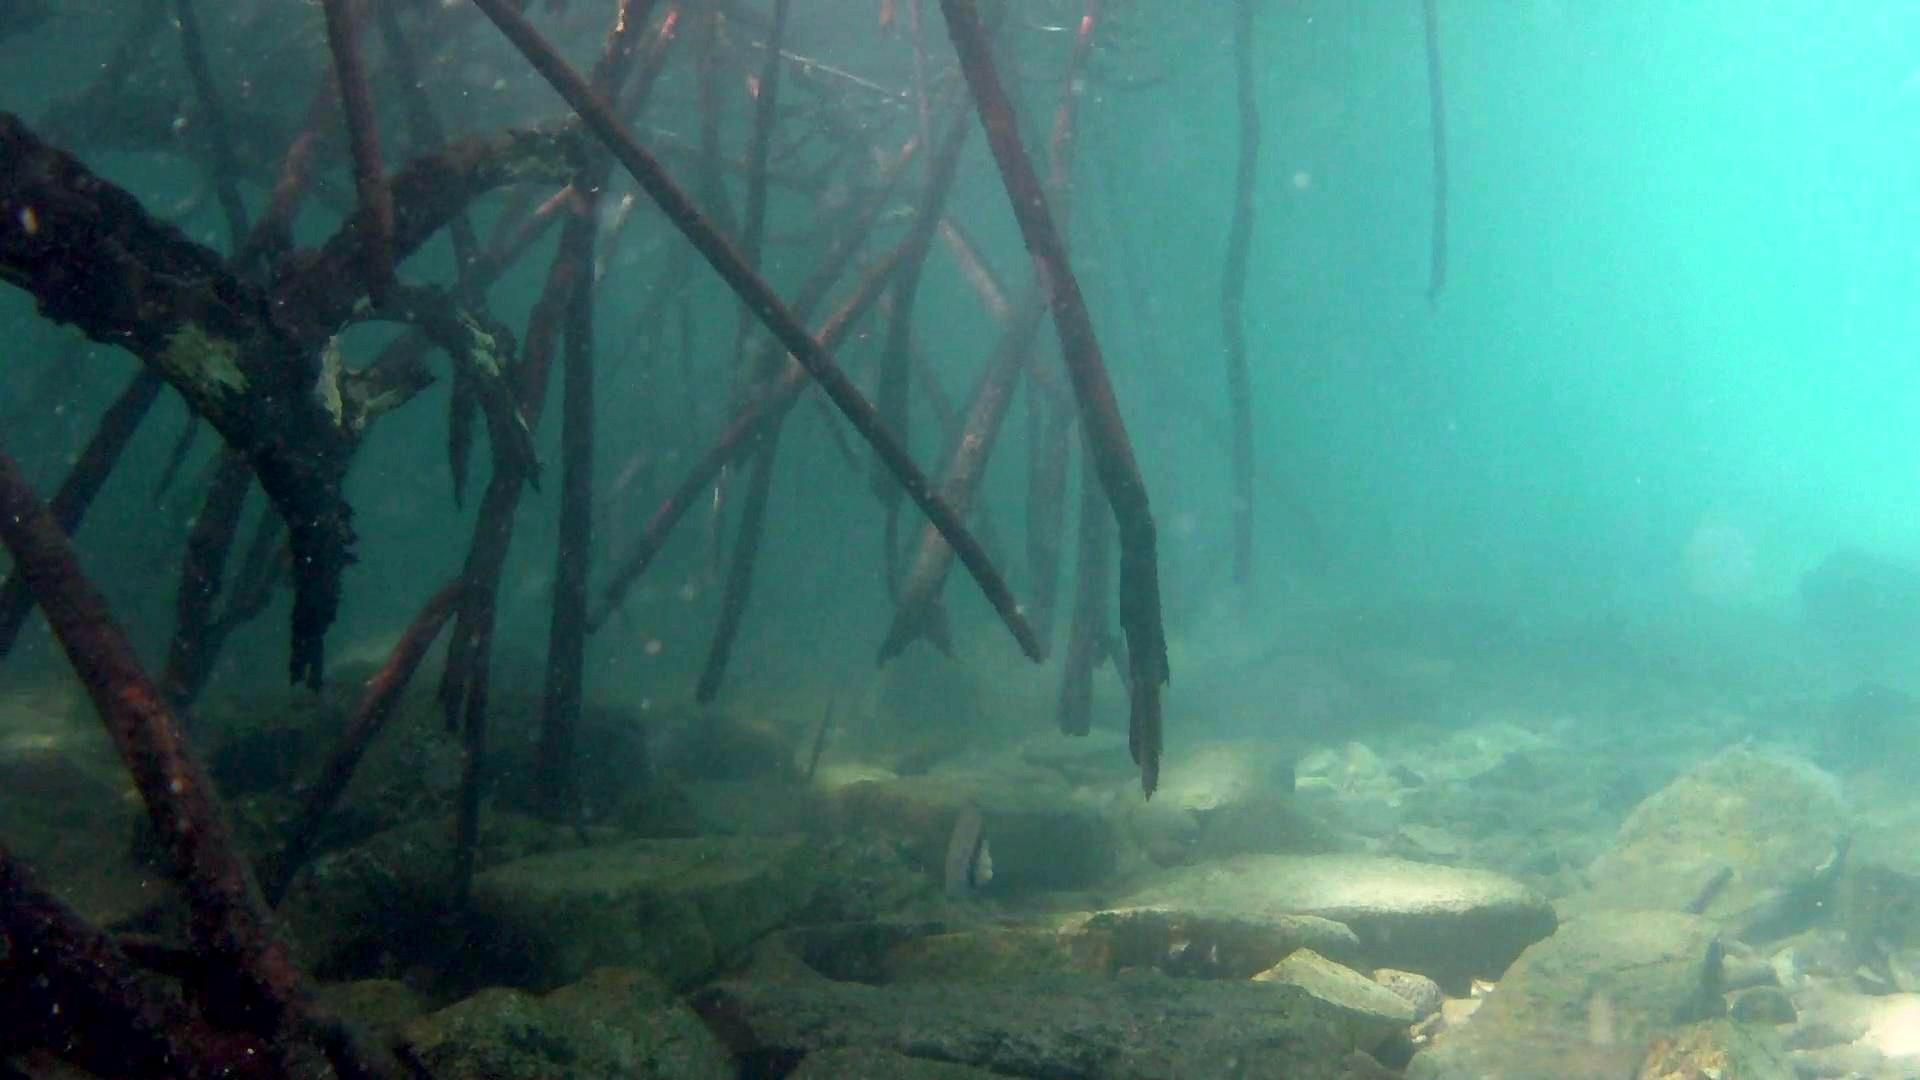chaetodon vagabundus: (940, 795, 997, 911)
